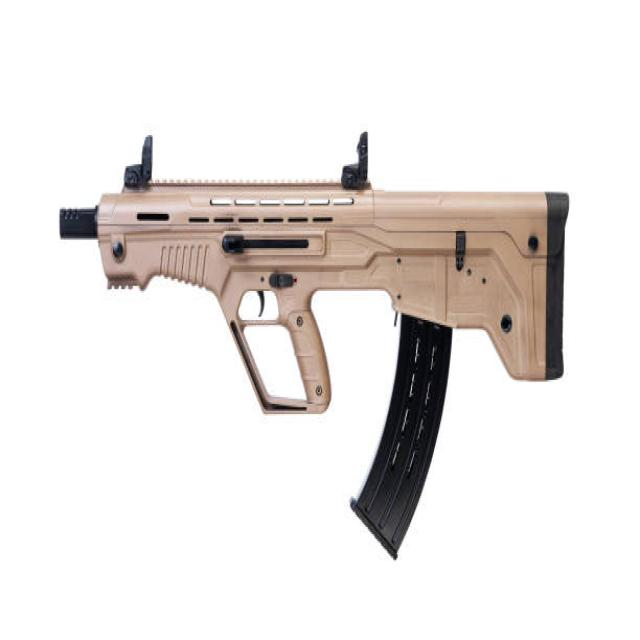rifle: (56, 114, 573, 570)
